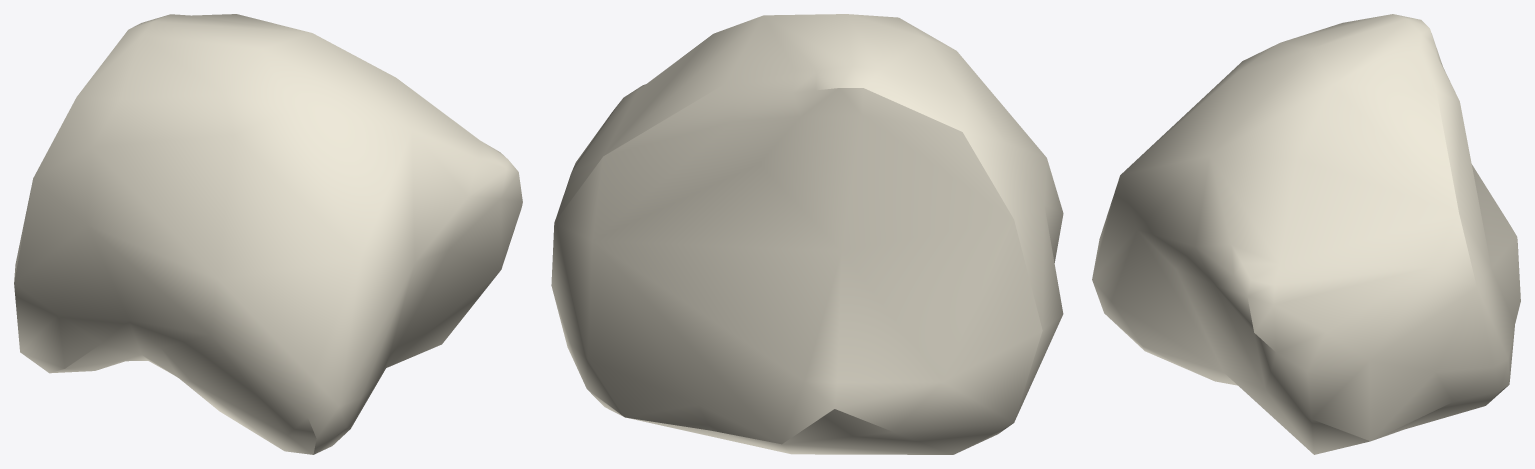
The model's file is fma230988_fj3298.glb.
3 views of the same model, side by side, from view 1: azimuth 30°, elevation 25°; view 2: azimuth 150°, elevation 25°; view 3: azimuth 270°, elevation 25° (orthographic). The views are drawn at different scales.
Visible parts, largest first — view 1: FMA230988_FJ3298; view 2: FMA230988_FJ3298; view 3: FMA230988_FJ3298.
Boxes of the visible parts, box(x1,y1,x2,y2) form: FMA230988_FJ3298: box(14, 14, 522, 454); FMA230988_FJ3298: box(551, 14, 1063, 454); FMA230988_FJ3298: box(1092, 14, 1520, 454).
Size of the model in its own units: 0.00857 by 0.00627 by 0.0074.
